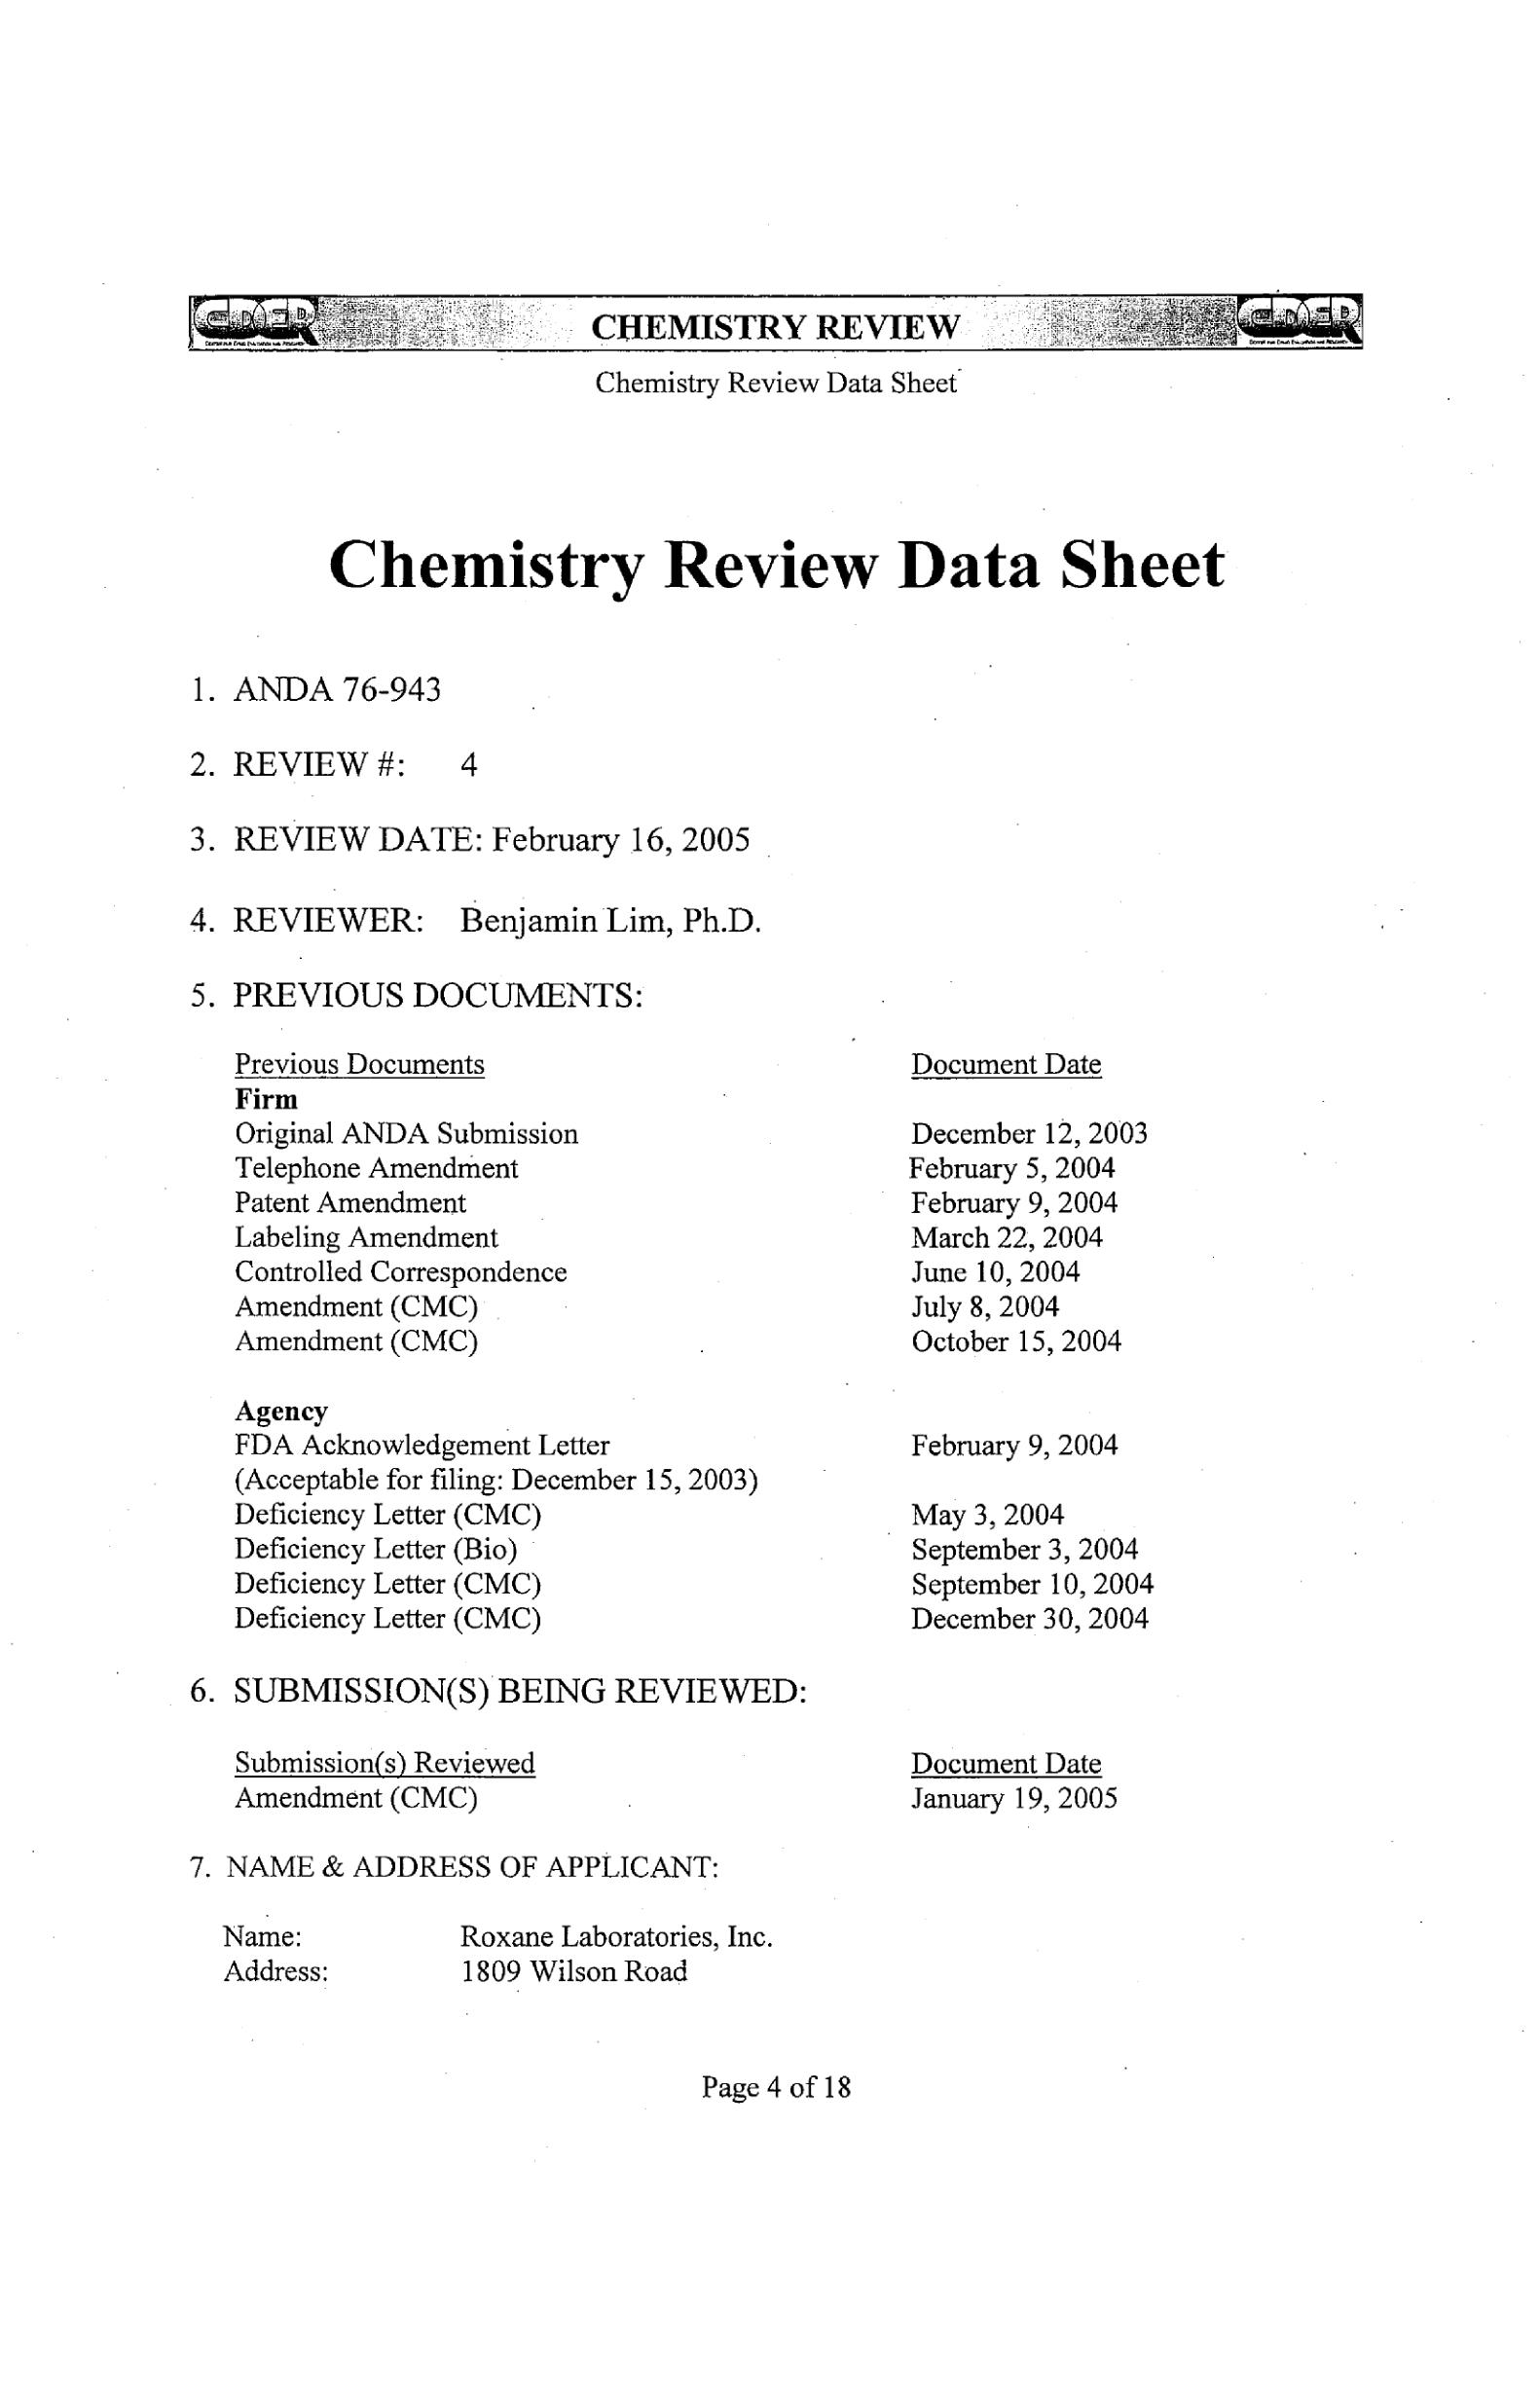nolines: (233, 1044, 1156, 1640), (231, 1743, 1119, 1821), (221, 1918, 772, 1983)
